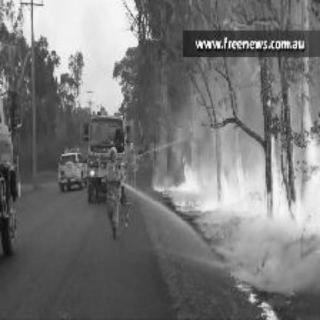Fire: (157, 142, 317, 238)
other: (102, 158, 126, 236), (128, 147, 142, 193)
